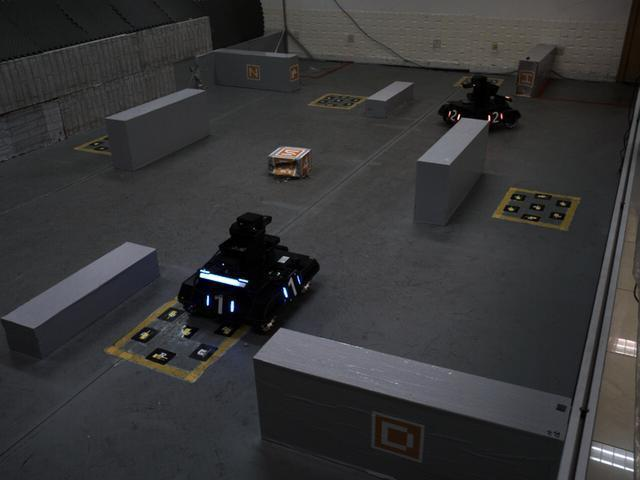armor: (274, 268, 307, 311), (202, 289, 238, 321), (482, 106, 506, 128), (445, 105, 463, 125)
